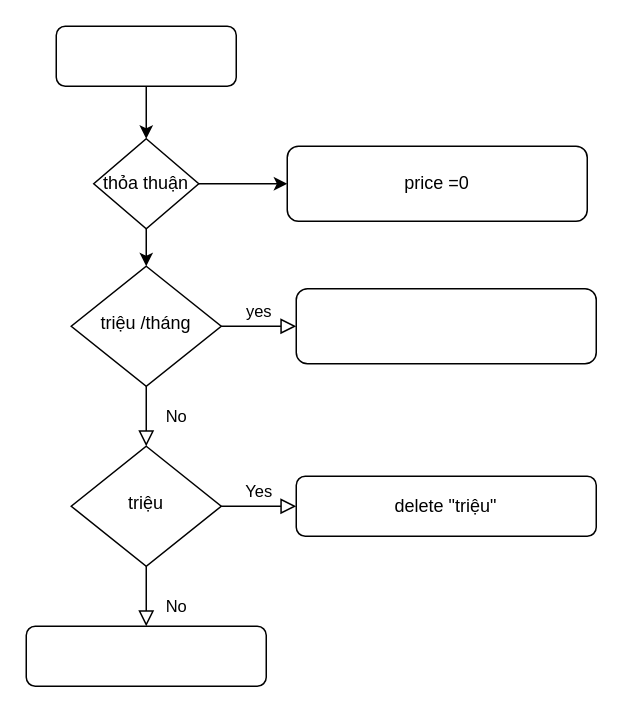
This 623x713 diagram has some shape labels left out. Here are the shapes that lost their labels. From the top down, the box of each, then its label:
(55, 25, 236, 86): price
(295, 287, 596, 364): delete "triệu/tháng"
(25, 625, 266, 686): convert value from million to billion
